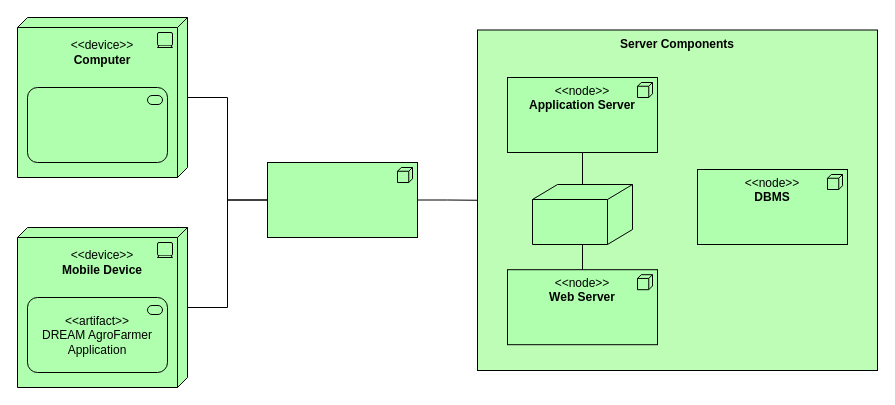
The diagram is 895 pixels wide and 405 high, and some of its shapes have lost their labels. The shapes that lost their labels are listed below. From the top down, each one's centre as x and y in pixels, then its label:
At [97,124]: "<<artifact>> DREAM Policy Application".
At [342,200]: "<<service>> CDN".
At [582,214]: "Load Balancer".
